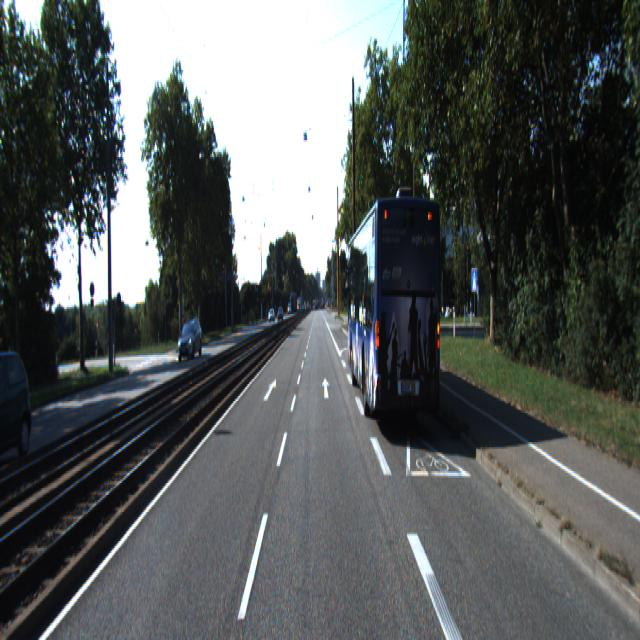Car: (348, 186, 445, 440), (0, 343, 43, 474), (176, 318, 203, 363)
